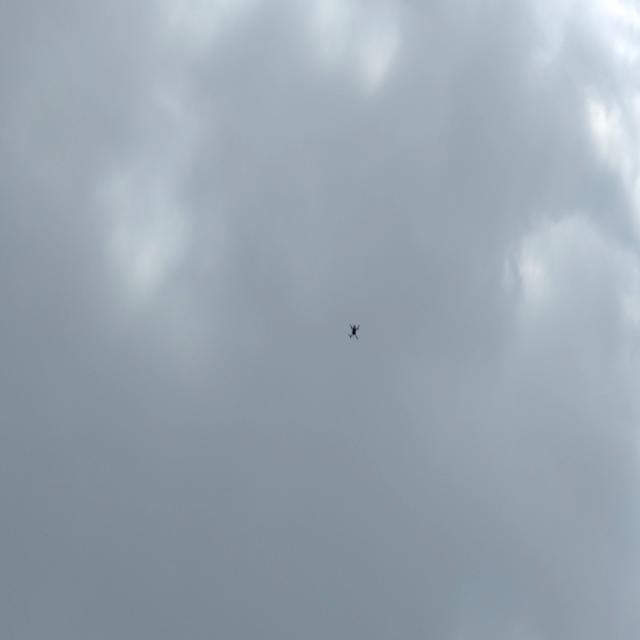drone: (345, 318, 365, 346)
